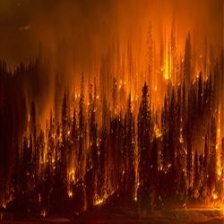fire: (38, 69, 224, 204)
